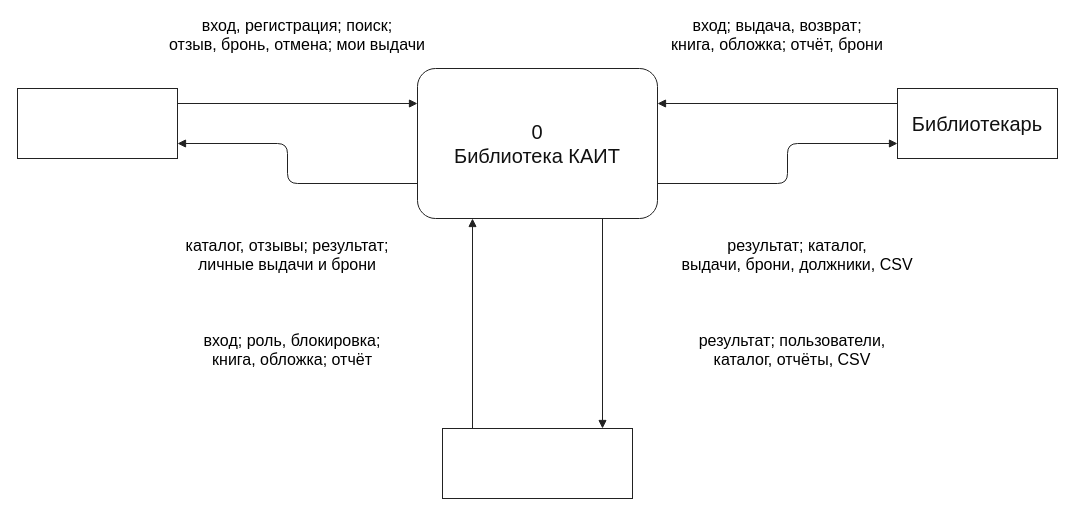
Some shapes in this 1075 by 516 pixel diagram are drawn without their labels. Each missing label, with the centre of its shape:
"Администратор" goes at pixel 537 463.
"Читатель" goes at pixel 97 123.
